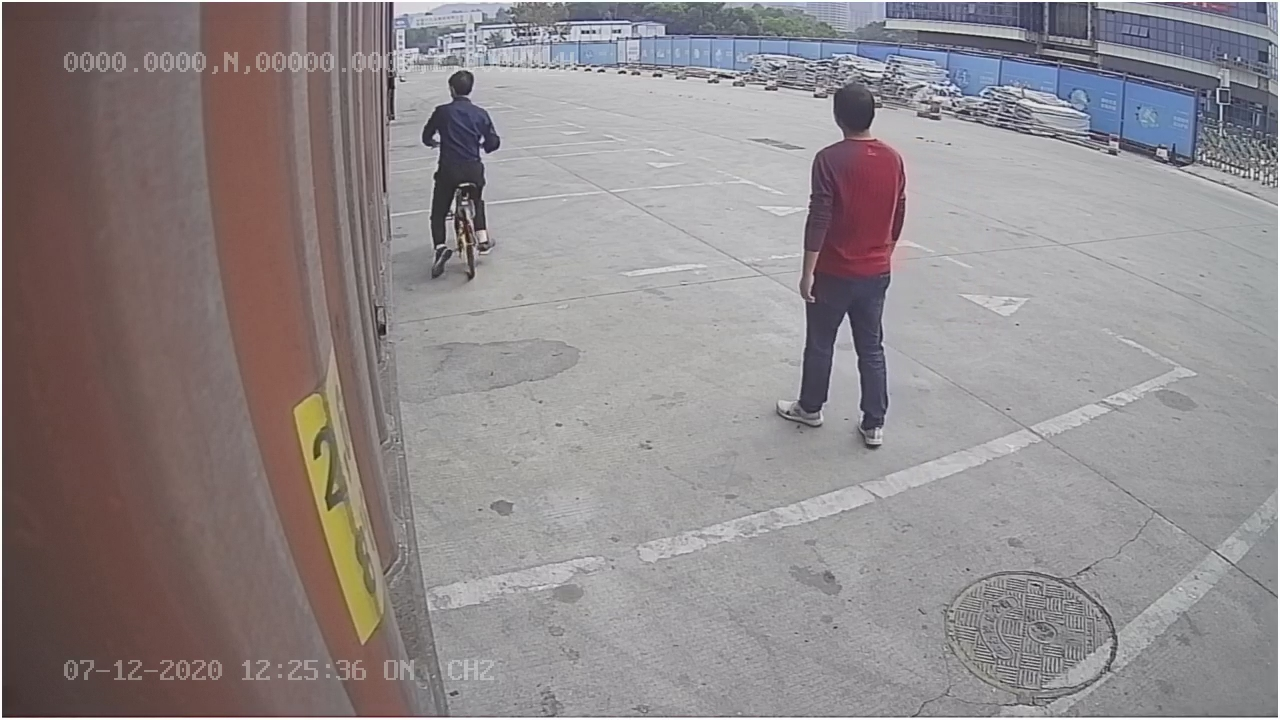person: (764, 78, 911, 451)
